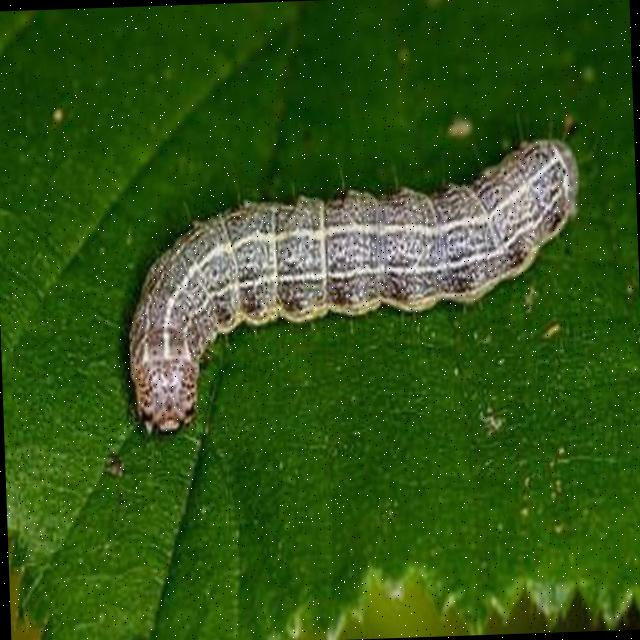worm: (119, 135, 588, 438)
